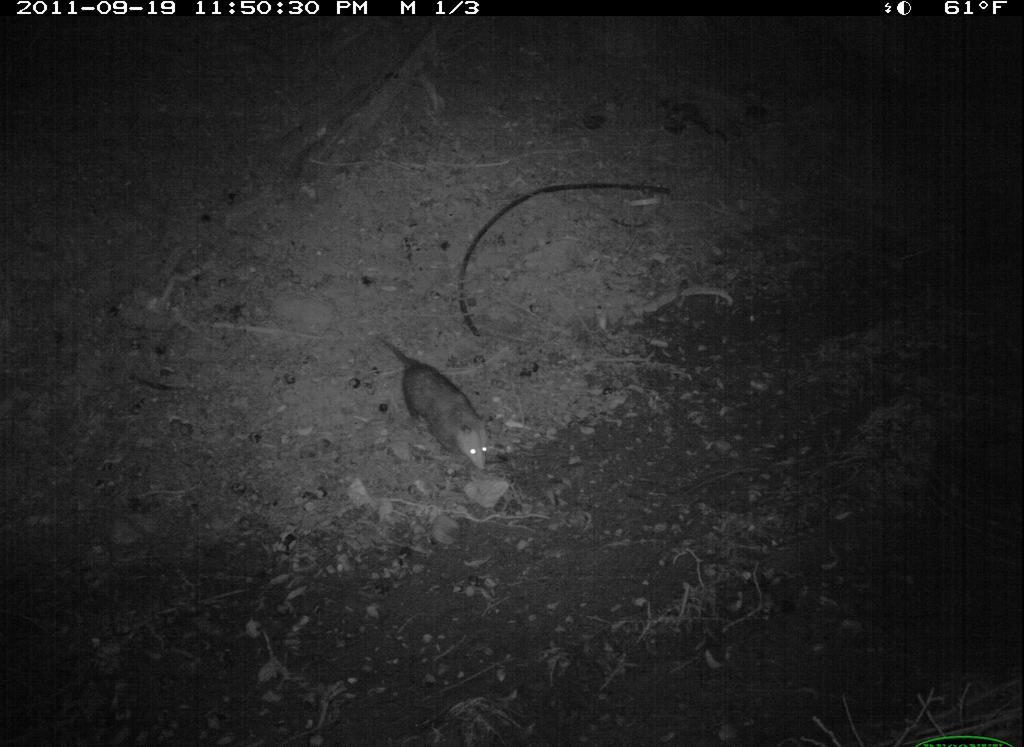opossum: (351, 317, 513, 495)
